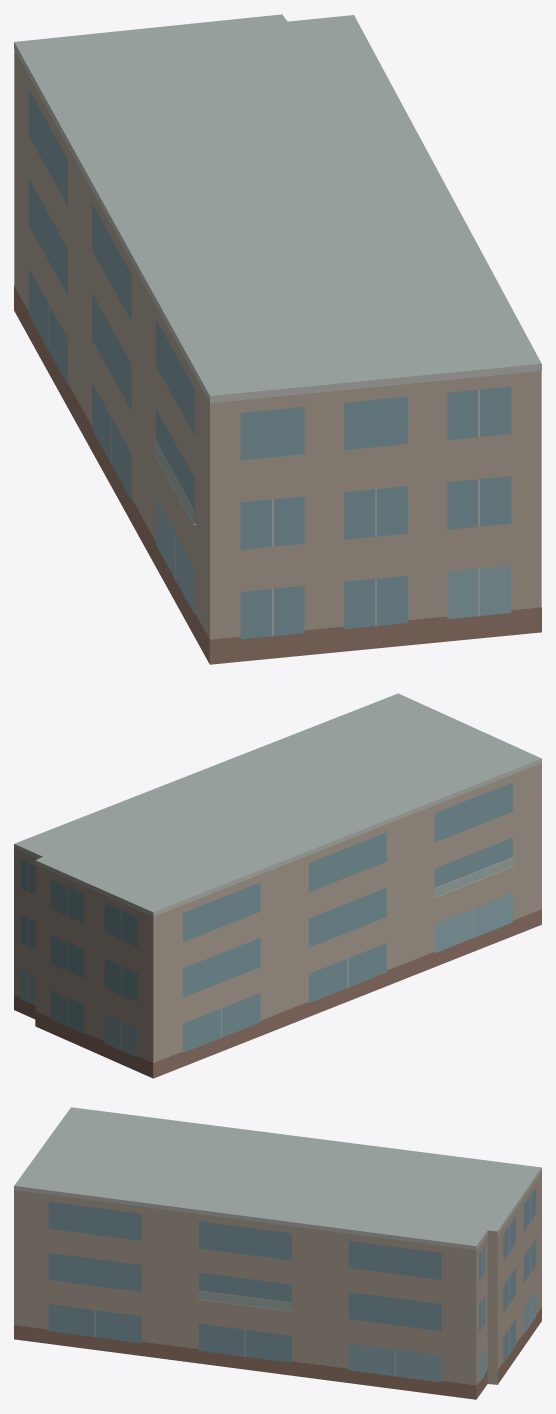
The model's file is survey-upis-32520168.glb.
The picture shows the model from 3 angles, top to bottom: view 1: azimuth 30°, elevation 25°; view 2: azimuth 150°, elevation 25°; view 3: azimuth 270°, elevation 25°; orthographic projection. The views are drawn at different scales.
Parts seen in each view (by area): view 1: survey-upis-32520168.tmp; view 2: survey-upis-32520168.tmp; view 3: survey-upis-32520168.tmp.
Boxes of the visible parts, x1,y1,x2,y2 form: survey-upis-32520168.tmp: [14, 14, 541, 664]; survey-upis-32520168.tmp: [14, 693, 541, 1078]; survey-upis-32520168.tmp: [14, 1107, 541, 1399].
Size of the model in its own units: 17.79 by 9.15 by 28.53.
